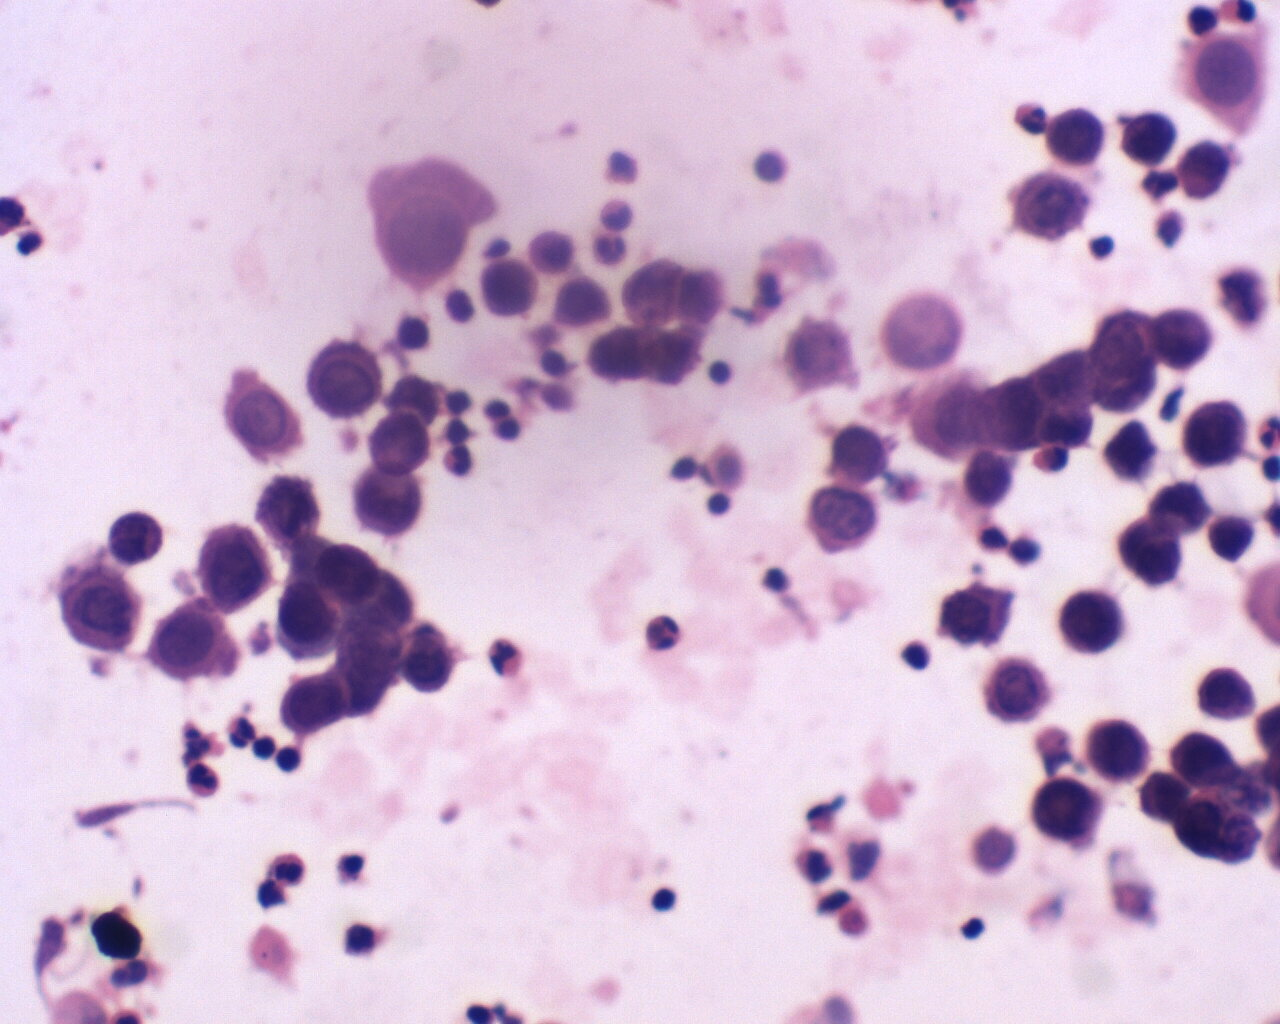ab: (51, 564, 141, 656), (147, 598, 240, 682), (193, 522, 273, 611), (306, 338, 392, 415), (275, 581, 351, 664), (1013, 169, 1092, 245), (250, 471, 330, 544), (348, 466, 426, 538), (1117, 513, 1187, 589), (980, 654, 1056, 724), (1060, 587, 1133, 657), (1084, 715, 1151, 786), (278, 671, 350, 736), (1184, 399, 1249, 471), (1147, 302, 1218, 367), (1173, 725, 1241, 792), (1032, 776, 1098, 844), (1046, 104, 1112, 168), (1117, 107, 1177, 169), (111, 506, 169, 568)
lymph: (643, 875, 686, 916), (704, 486, 739, 523)
neutro: (186, 761, 228, 799), (646, 613, 684, 653), (592, 232, 629, 269), (267, 851, 301, 887)
